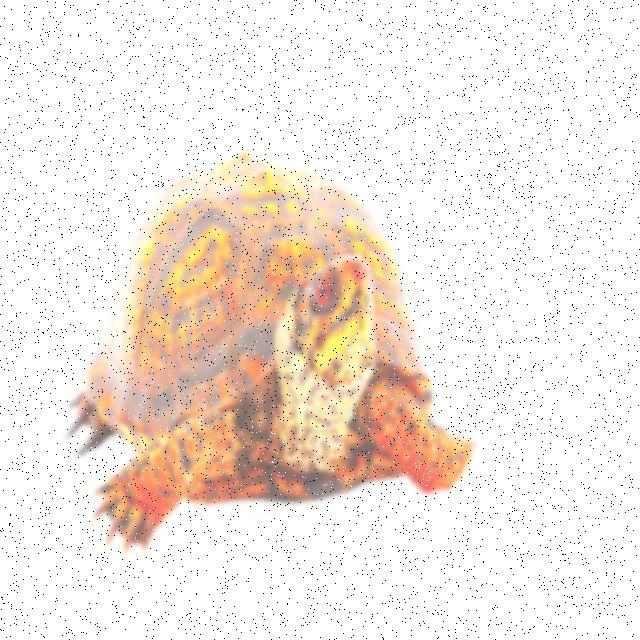tortoise: (56, 151, 480, 554)
